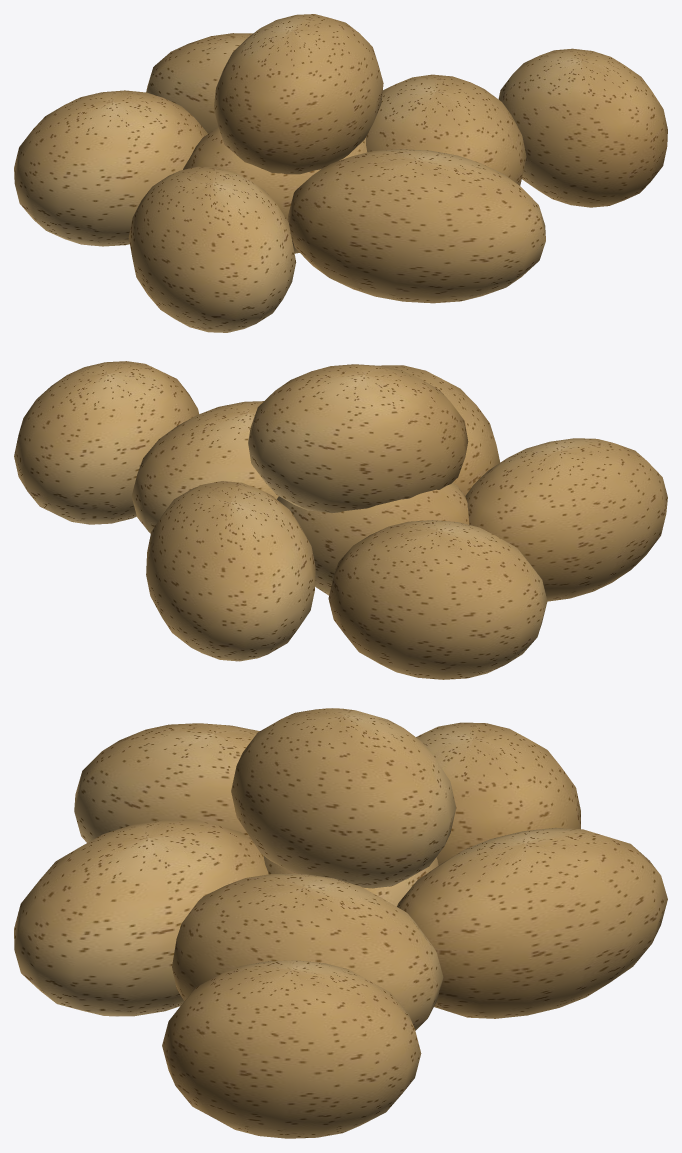
Rendered from veg_potatoes_pile.glb.
3 views of the same model, one above another, from view 1: azimuth 30°, elevation 25°; view 2: azimuth 150°, elevation 25°; view 3: azimuth 270°, elevation 25° (orthographic). The views are drawn at different scales.
Parts seen in each view (by area): view 1: veg_potatoes_pile; view 2: veg_potatoes_pile; view 3: veg_potatoes_pile.
Part boxes in pixels (x1,y1,x2,y2): veg_potatoes_pile: [14, 14, 667, 332]; veg_potatoes_pile: [14, 361, 667, 679]; veg_potatoes_pile: [14, 708, 667, 1138].
Size of the model in its own units: 0.2973 by 0.1089 by 0.2518.
Materials: 1 (1 with a texture image).
